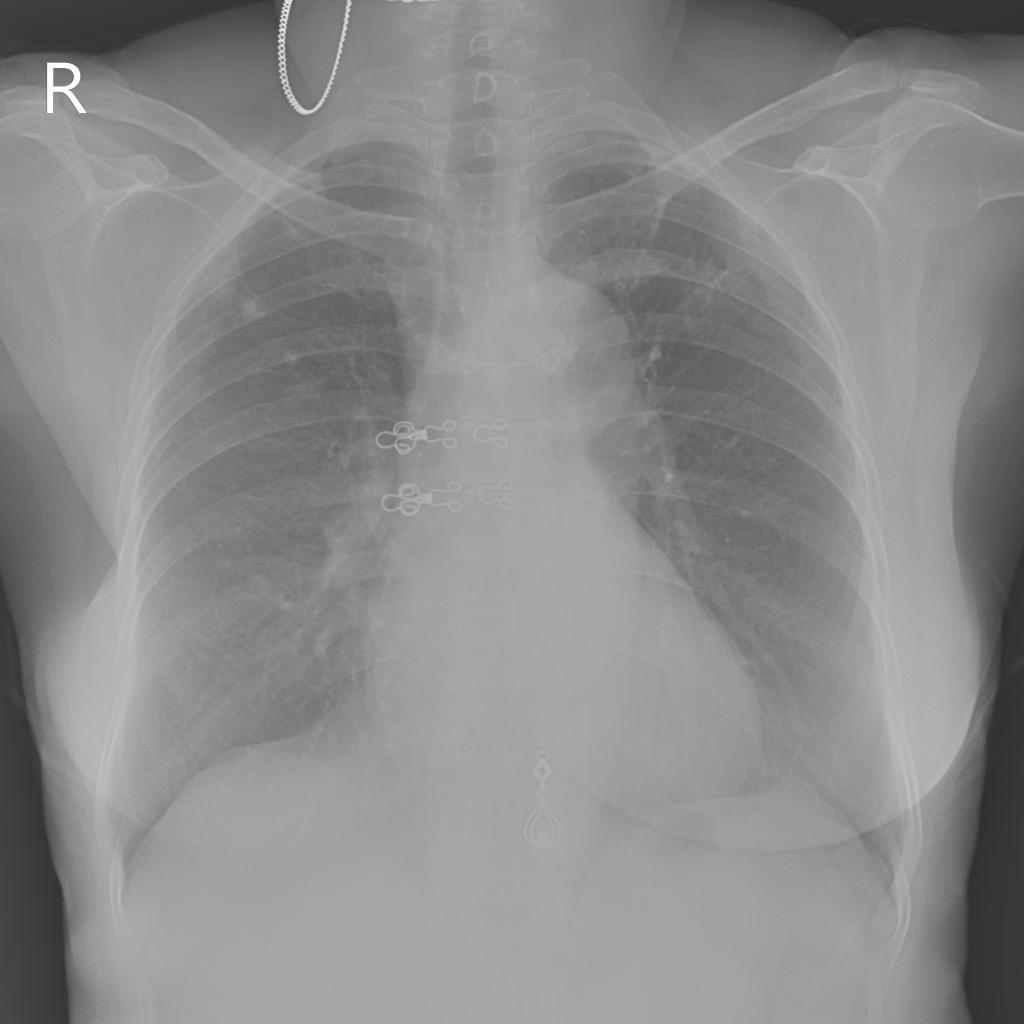Nodule: (284, 380, 326, 411), (242, 297, 265, 322), (281, 345, 303, 370)
